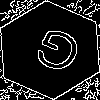G: (25, 25, 86, 84)
